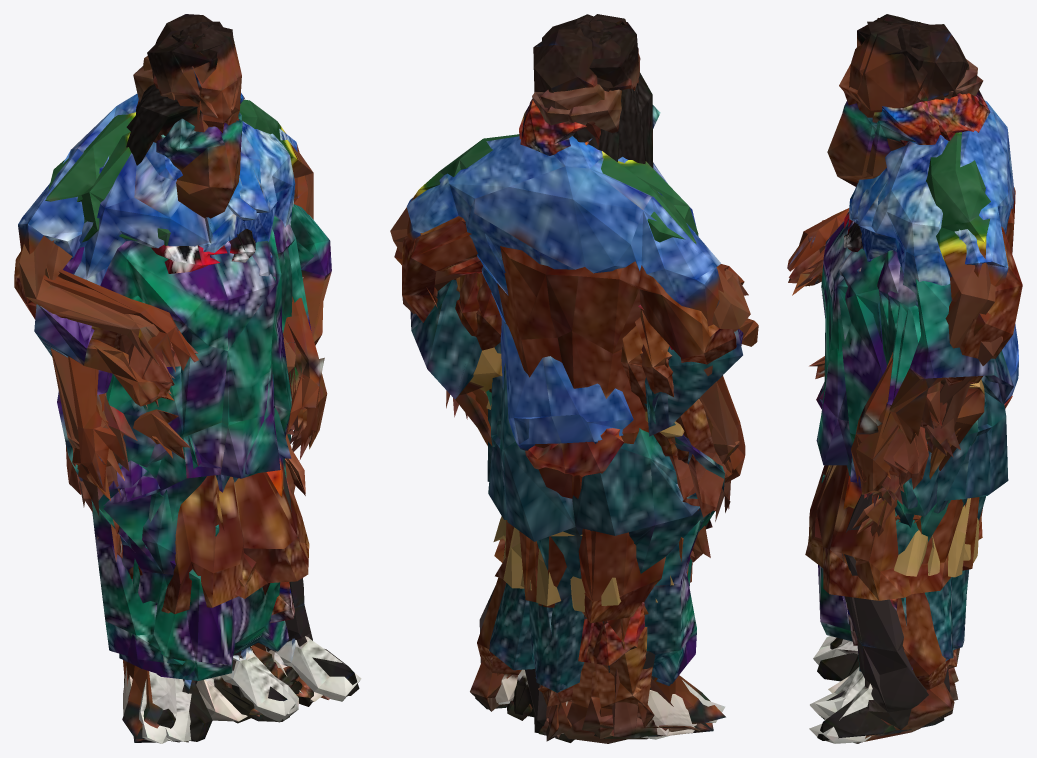
File: foule.glb
3 views of the same model, side by side, from view 1: azimuth 30°, elevation 25°; view 2: azimuth 150°, elevation 25°; view 3: azimuth 270°, elevation 25° (orthographic). The views are drawn at different scales.
Visible parts, largest first — view 1: maman-p2-haut, bureau-p2-haut, maman-p1-haut, maman-p0-haut, jeune-p1-haut, jeune-p2-haut, bureau-p0-haut, bureau-p1-haut, ancien-p0-haut, maman-p2-bas, ancien-p2-bas, etudiante-p2-haut (+16 smaller); view 2: bureau-p1-haut, maman-p1-haut, ancien-p1-haut, ancien-p2-haut, vendeuse-p1-haut, ancien-p1-bas, jeune-p1-haut, ancien-p0-haut, maman-p1-bas, jeune-p2-haut, maman-p2-haut, etudiante-p2-haut (+12 smaller); view 3: maman-p2-haut, bureau-p0-haut, maman-p0-haut, ancien-p2-haut, bureau-p1-haut, bureau-p2-haut, jeune-p1-haut, maman-p1-haut, ancien-p1-haut, ancien-p2-bas, vendeuse-p1-haut, maman-p2-bas (+16 smaller).
Boxes of the visible parts, bbox=[...] form: maman-p2-haut: bbox=[77, 118, 327, 742]; bureau-p2-haut: bbox=[68, 28, 359, 741]; maman-p1-haut: bbox=[34, 134, 331, 739]; maman-p0-haut: bbox=[103, 112, 311, 742]; jeune-p1-haut: bbox=[19, 24, 313, 743]; jeune-p2-haut: bbox=[51, 33, 361, 741]; bureau-p0-haut: bbox=[99, 23, 324, 742]; bureau-p1-haut: bbox=[18, 14, 307, 728]; ancien-p0-haut: bbox=[163, 475, 243, 614]; maman-p2-bas: bbox=[78, 252, 318, 663]; ancien-p2-bas: bbox=[65, 444, 301, 598]; etudiante-p2-haut: bbox=[105, 84, 322, 701]; bureau-p1-haut: bbox=[394, 28, 744, 732]; maman-p1-haut: bbox=[410, 279, 757, 723]; ancien-p1-haut: bbox=[402, 84, 736, 741]; ancien-p2-haut: bbox=[470, 89, 726, 743]; vendeuse-p1-haut: bbox=[402, 99, 712, 738]; ancien-p1-bas: bbox=[411, 139, 652, 727]; jeune-p1-haut: bbox=[390, 18, 750, 722]; ancien-p0-haut: bbox=[455, 92, 692, 737]; maman-p1-bas: bbox=[411, 311, 758, 692]; jeune-p2-haut: bbox=[498, 19, 739, 704]; maman-p2-haut: bbox=[475, 105, 729, 709]; etudiante-p2-haut: bbox=[495, 72, 653, 702]; maman-p2-haut: bbox=[816, 101, 990, 736]; bureau-p0-haut: bbox=[821, 24, 950, 719]; maman-p0-haut: bbox=[816, 120, 986, 649]; ancien-p2-haut: bbox=[808, 426, 966, 742]; bureau-p1-haut: bbox=[787, 24, 1018, 692]; bureau-p2-haut: bbox=[817, 21, 930, 740]; jeune-p1-haut: bbox=[810, 19, 995, 719]; maman-p1-haut: bbox=[794, 133, 1013, 649]; ancien-p1-haut: bbox=[788, 59, 1022, 700]; ancien-p2-bas: bbox=[805, 435, 933, 628]; vendeuse-p1-haut: bbox=[795, 90, 1012, 457]; maman-p2-bas: bbox=[820, 290, 950, 658].
Bounding box in the file's own units: 0.8368 × 1.76 × 0.5568.
Materials: 1 (1 with a texture image).
